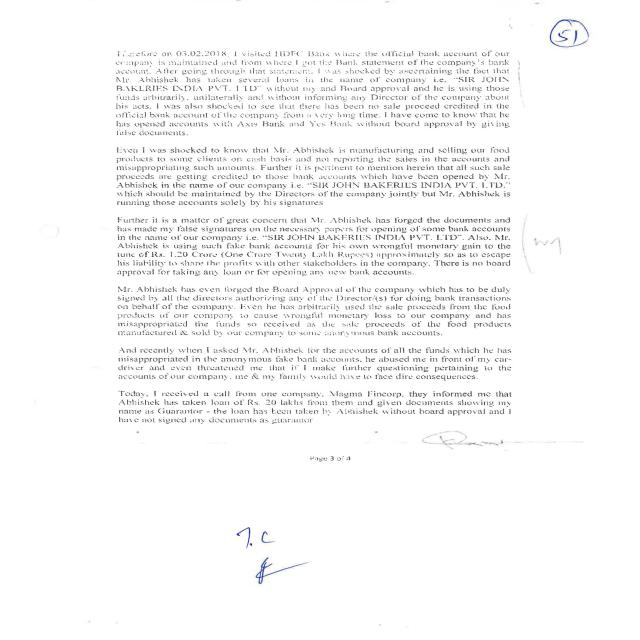page-number: (526, 10, 636, 152)
